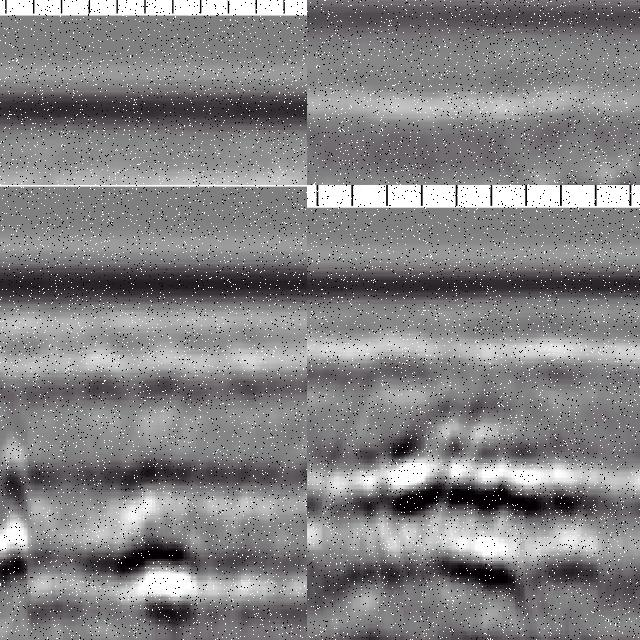loose: (1, 405, 221, 640), (352, 410, 608, 610)
